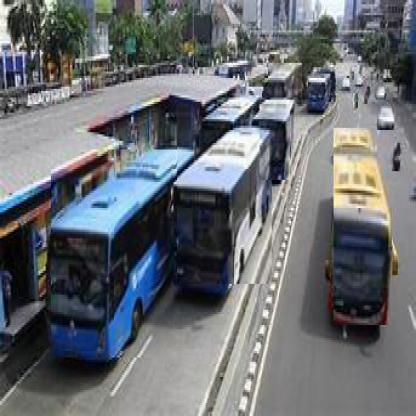bus: (52, 151, 176, 361), (178, 131, 274, 287), (334, 129, 394, 328), (261, 101, 292, 183), (307, 70, 336, 118), (269, 64, 304, 101)
car: (378, 107, 394, 133), (377, 85, 387, 103), (343, 81, 352, 94), (355, 75, 364, 88)
motorbike: (393, 144, 402, 174), (354, 94, 360, 112), (348, 66, 354, 79), (365, 88, 368, 107)
